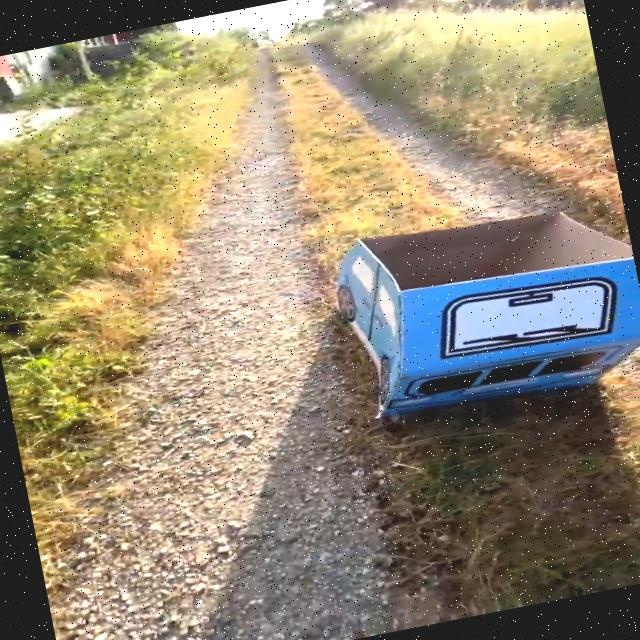blue_car: (254, 175, 640, 491)
